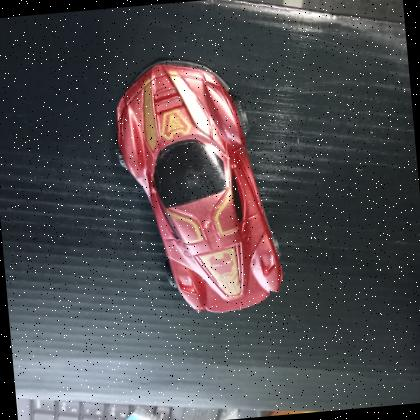Car: (104, 46, 290, 324)
